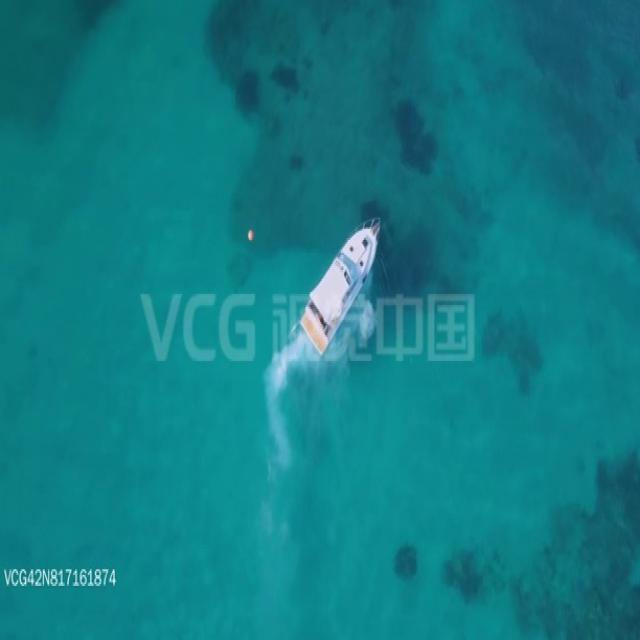houseboat: (296, 216, 381, 357)
